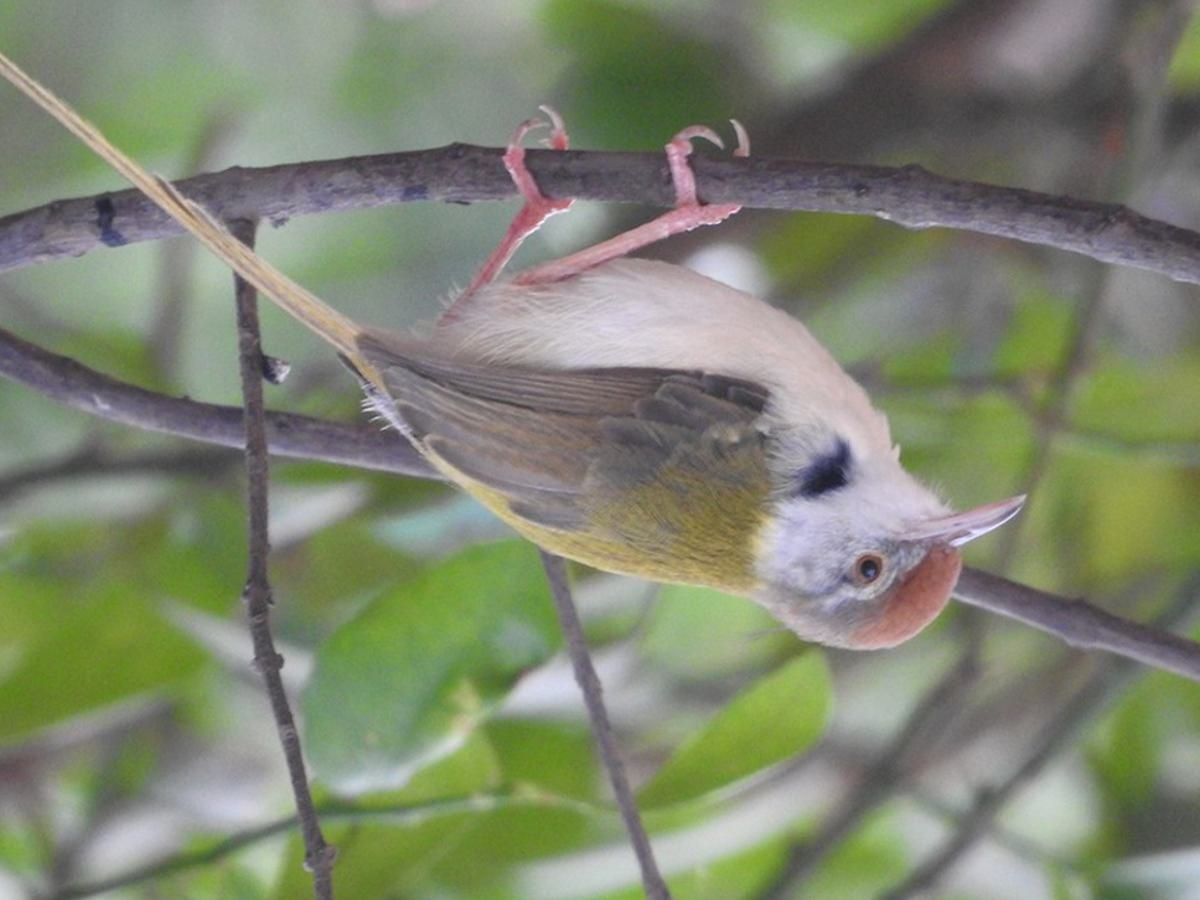tailorbird: (107, 81, 1007, 710)
